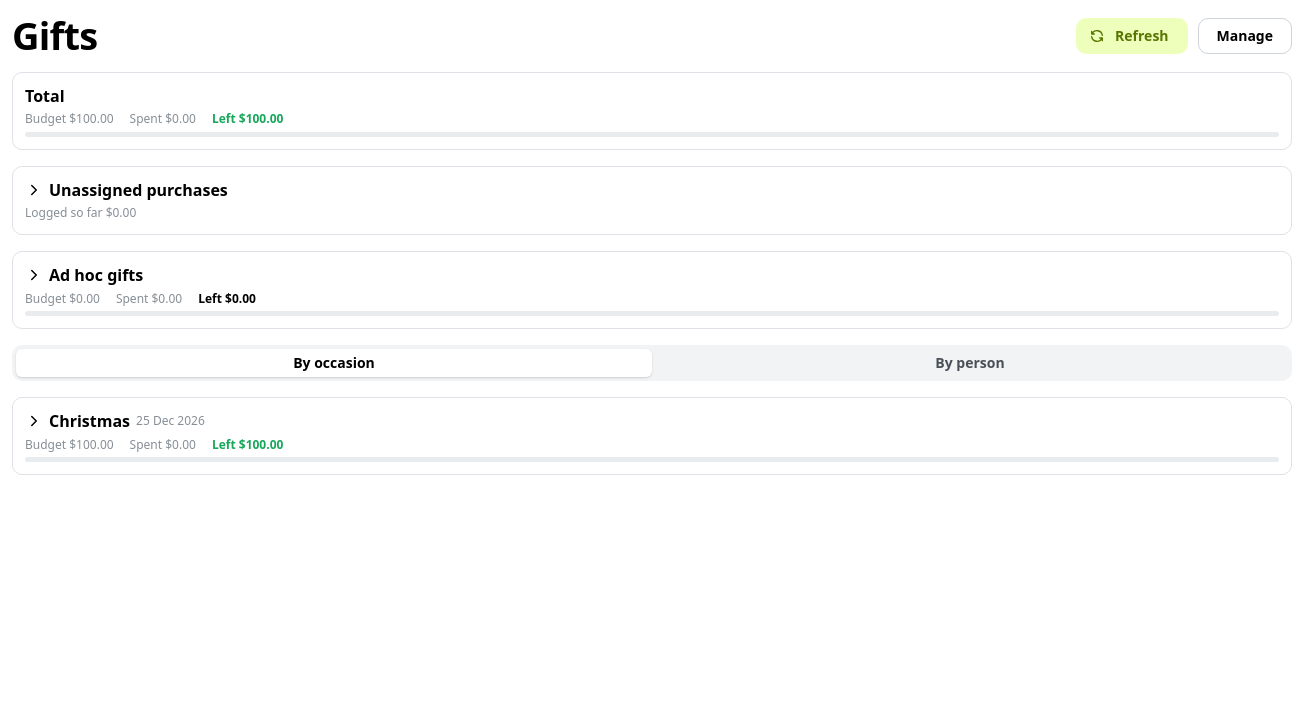
Scenario: GiftsScreen manage toggle › reveals recipient/occasion management and flips the button label
What coordinates should you click on to do the following:
click the button "Manage"
I would click on:
 (1245, 36)
Its box is x1=1198 y1=18 x2=1292 y2=54.
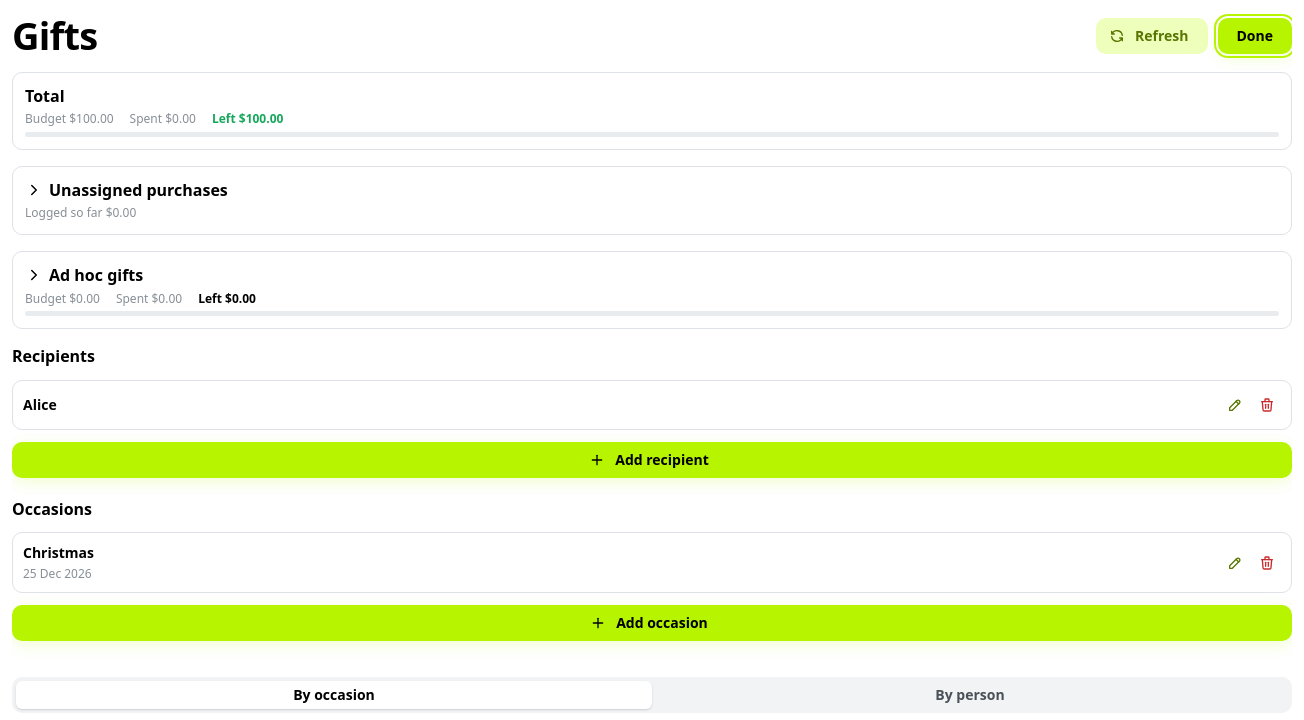
Check: the heading "Recipients" is shown, box x1=12 y1=346 x2=95 y2=368
Check: the button "Done" is shown
What coordinates should you click on to do the following:
click the button "Done"
I would click on:
 (1255, 36)
Its box is x1=1218 y1=18 x2=1292 y2=54.
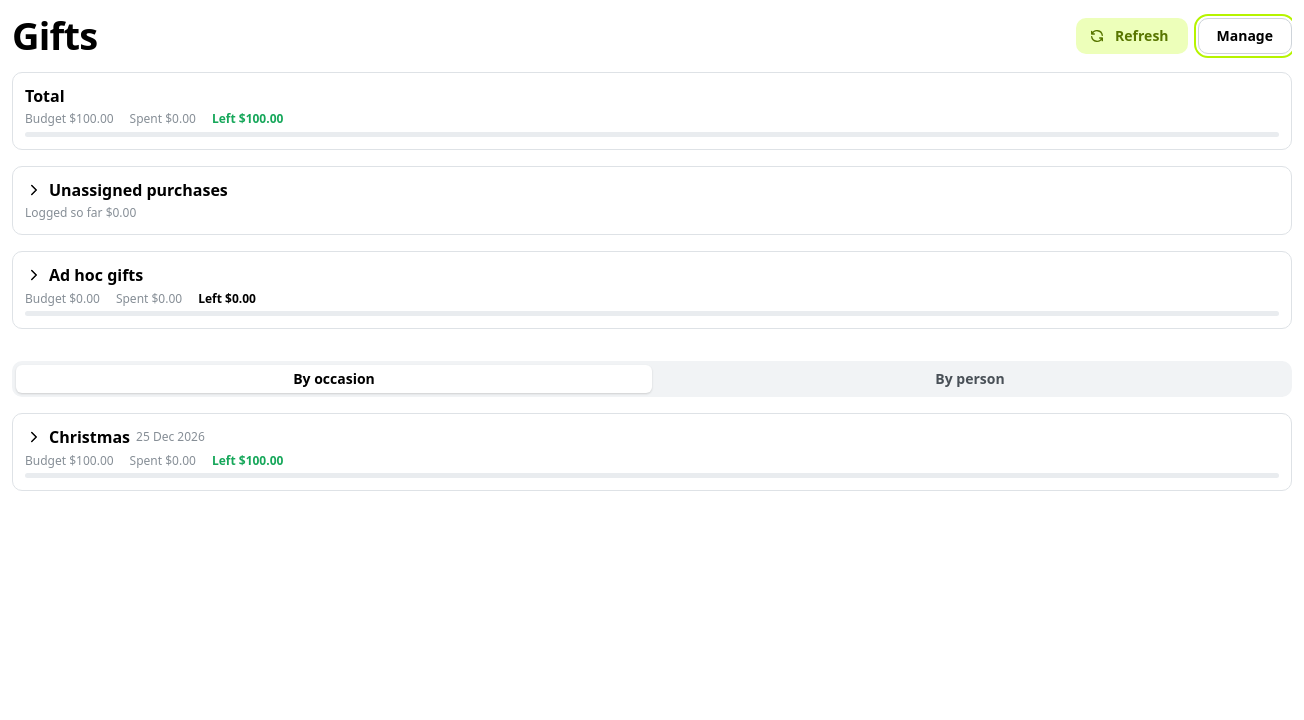
Check: the button "Manage" is shown, box x1=1198 y1=18 x2=1292 y2=54
